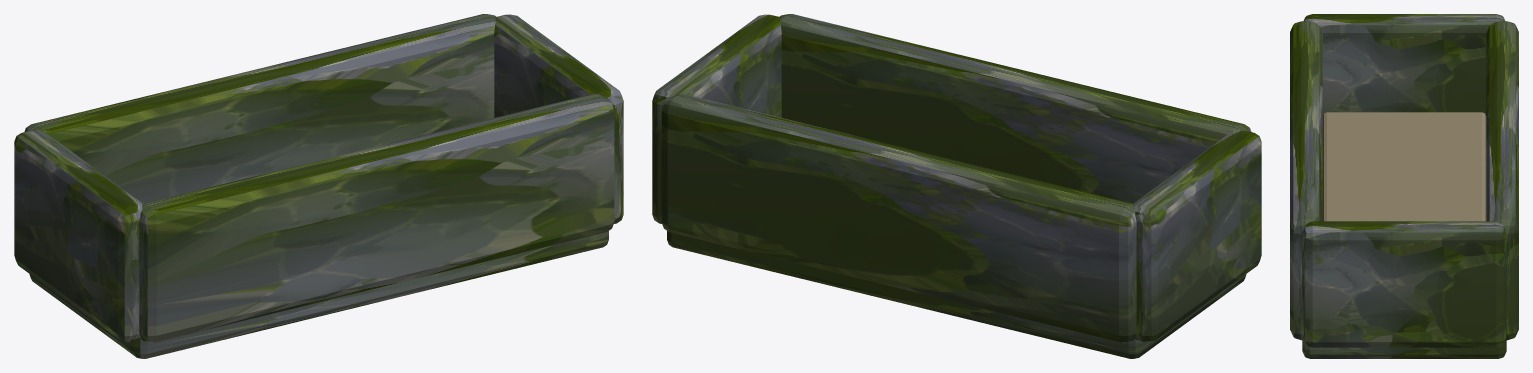
File: Water_Trough_Barren.glb
3 views of the same model, side by side, from view 1: azimuth 30°, elevation 25°; view 2: azimuth 150°, elevation 25°; view 3: azimuth 270°, elevation 25° (orthographic). The views are drawn at different scales.
Parts seen in each view (by area): view 1: Structure; view 2: Structure; view 3: Structure.
Boxes of the visible parts, box(x1,y1,x2,y2) form: Structure: box(14, 14, 623, 358); Structure: box(652, 14, 1261, 358); Structure: box(1290, 14, 1518, 358).
Bounding box in the file's own units: 2.56 × 0.745 × 1.12.
2 materials, 1 textured.
